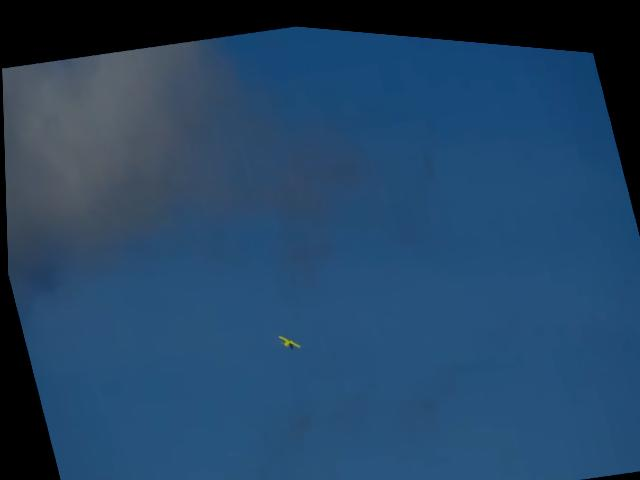plane: (274, 324, 299, 348)
